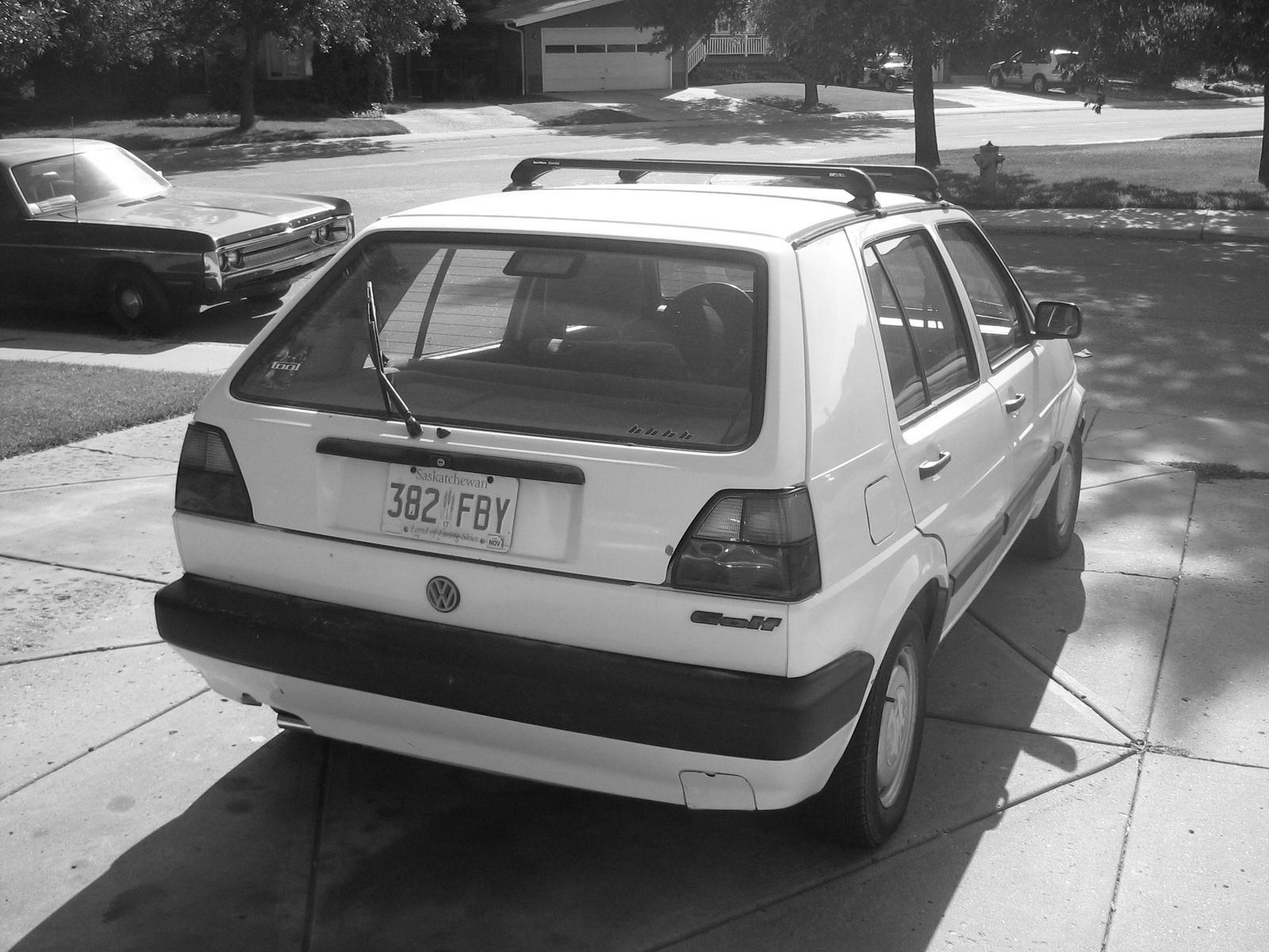car: (153, 155, 1088, 853)
